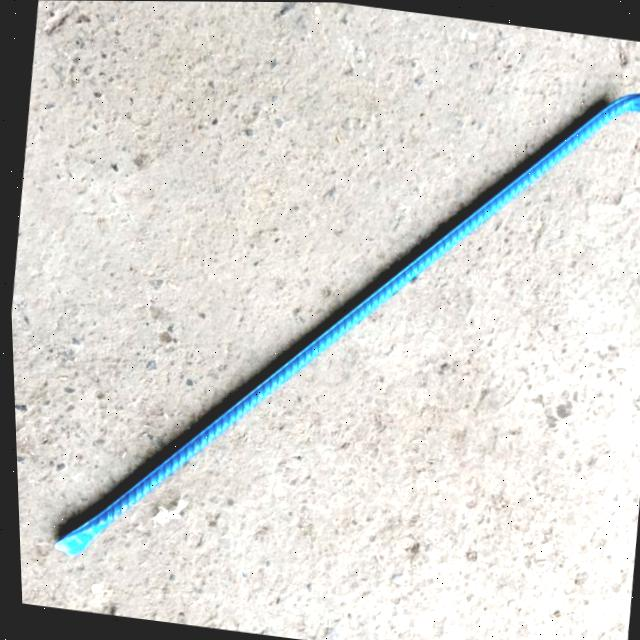crow bar: (23, 5, 640, 637)
